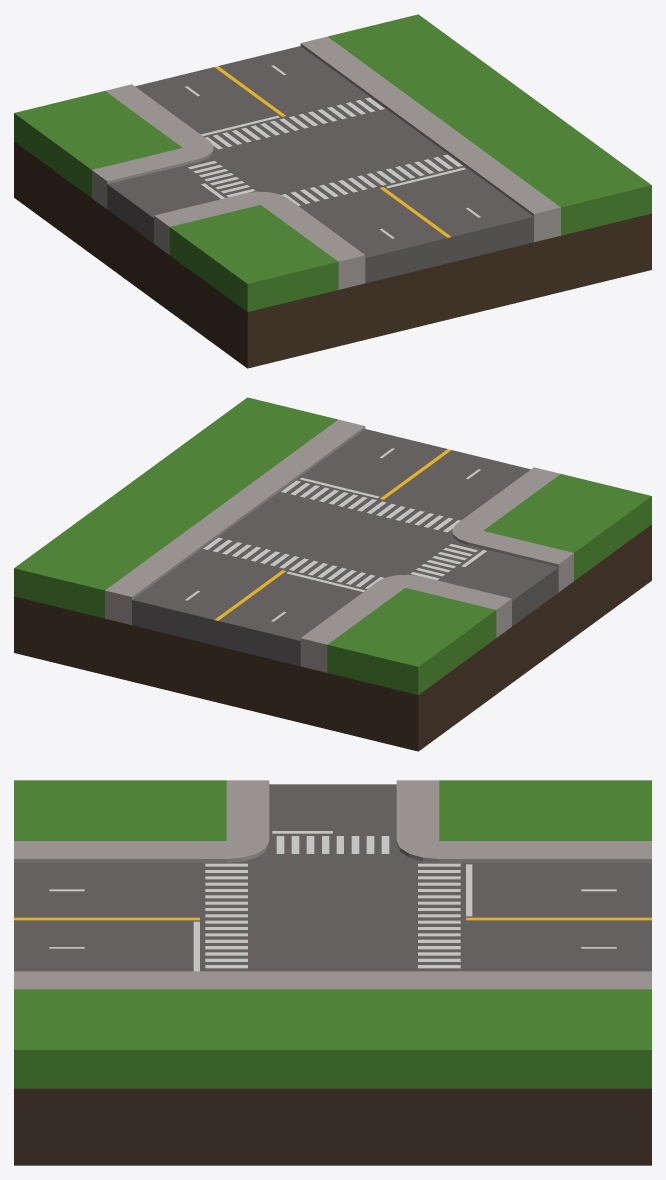
The model's file is tiles-tile-road-mainroad-intersection-t.glb.
The picture shows the model from 3 angles, top to bottom: view 1: azimuth 30°, elevation 25°; view 2: azimuth 150°, elevation 25°; view 3: azimuth 270°, elevation 25°; orthographic projection. The views are drawn at different scales.
Parts seen in each view (by area): view 1: tile-road-mainroad-intersection-t; view 2: tile-road-mainroad-intersection-t; view 3: tile-road-mainroad-intersection-t.
Boxes of the visible parts, x1=… form: tile-road-mainroad-intersection-t: x1=14, y1=14, x2=651, y2=368; tile-road-mainroad-intersection-t: x1=14, y1=397, x2=651, y2=751; tile-road-mainroad-intersection-t: x1=14, y1=780, x2=651, y2=1165.
Size of the model in its own units: 30 by 6 by 30.
